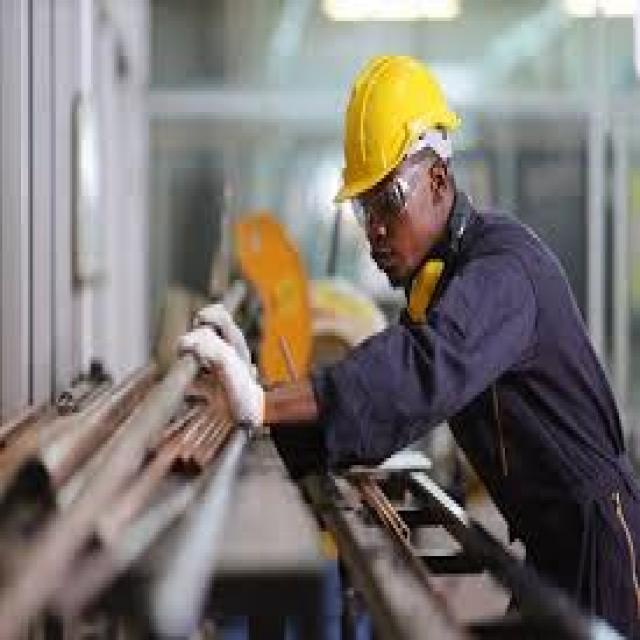Safety-Helmet: (326, 45, 465, 217)
